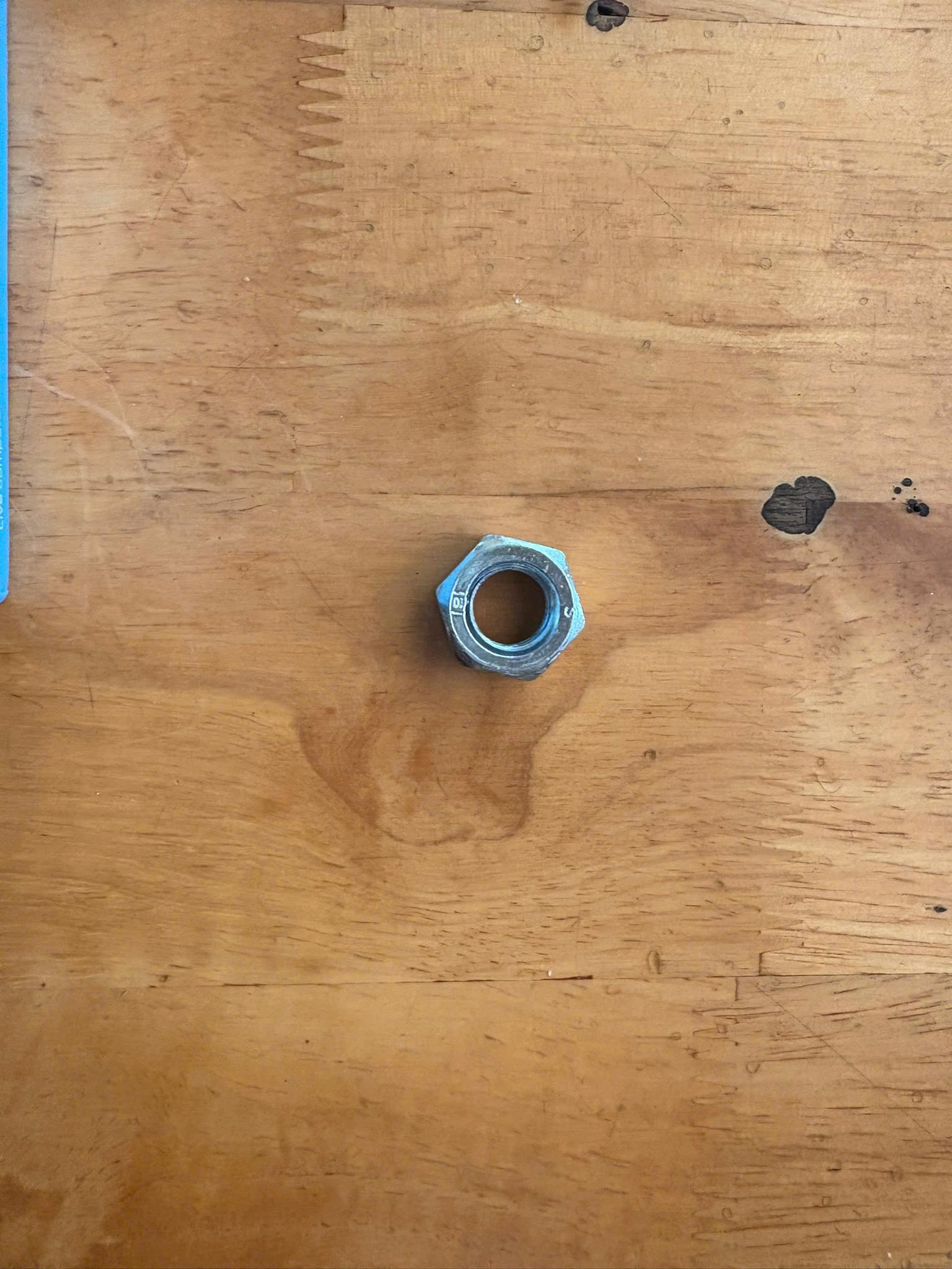nut: (409, 509, 593, 698)
